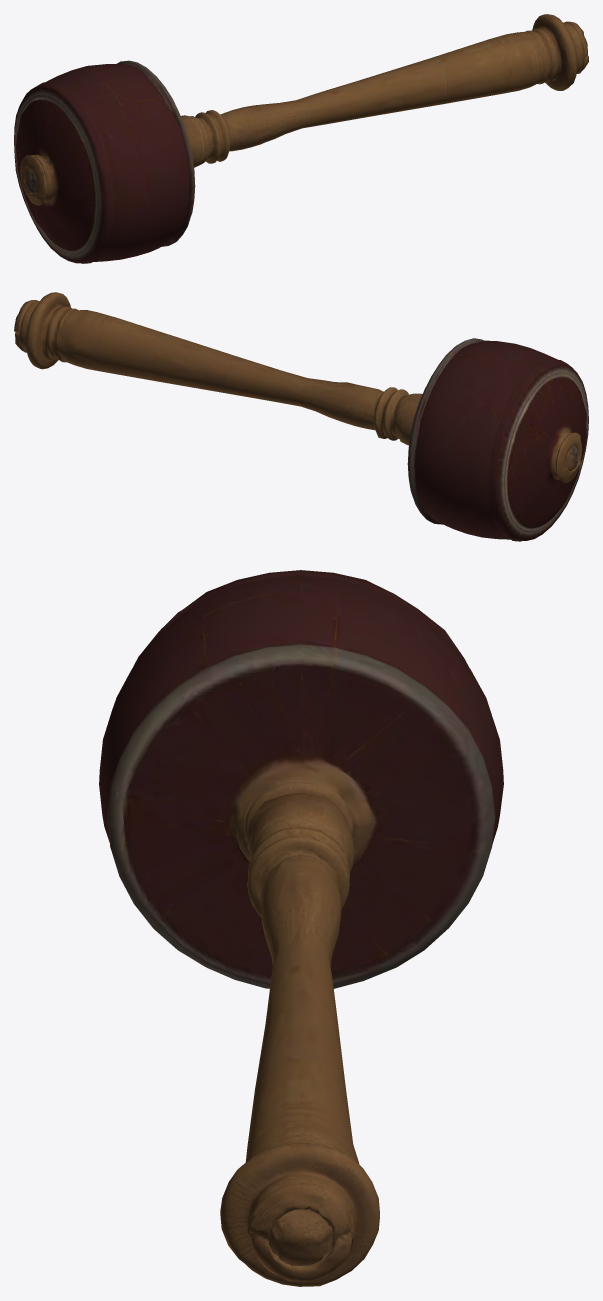
Rendered from mallet.glb.
3 renders of one model, top to bottom at view 1: azimuth 30°, elevation 25°; view 2: azimuth 150°, elevation 25°; view 3: azimuth 270°, elevation 25°, orthographic. The views are drawn at different scales.
Visible parts, largest first — view 1: midway-fit; view 2: midway-fit; view 3: midway-fit.
Part boxes in pixels (<box>): midway-fit: <box>14,14,588,263</box>; midway-fit: <box>14,292,588,541</box>; midway-fit: <box>99,570,503,1286</box>.
Size of the model in its own units: 1 by 0.3065 by 0.3151.
Materials: 1 (1 with a texture image).
